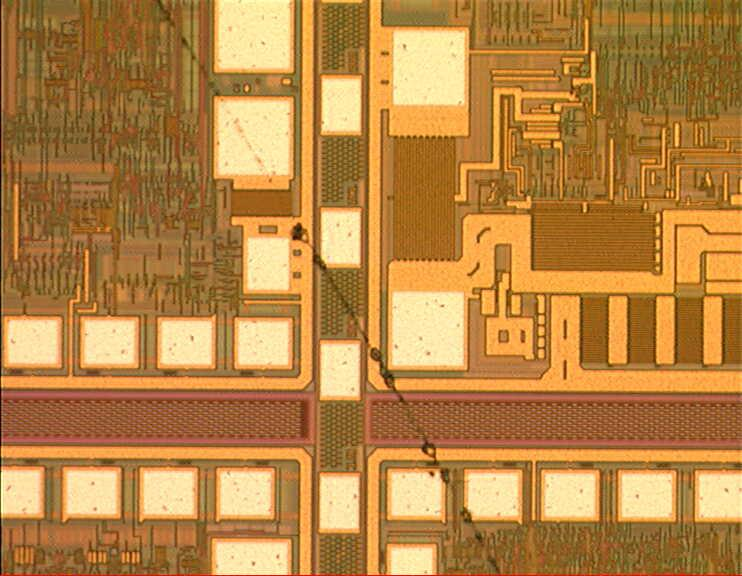SCRATCH: (145, 1, 513, 576)
